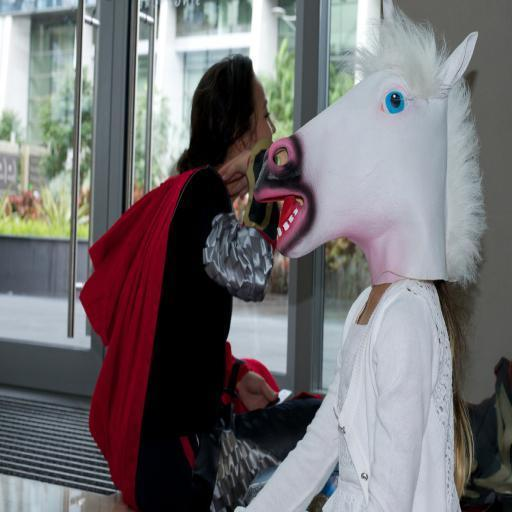horse: (252, 4, 490, 284)
